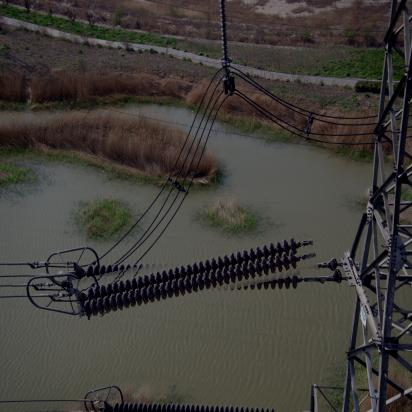insulator: (74, 244, 320, 310)
